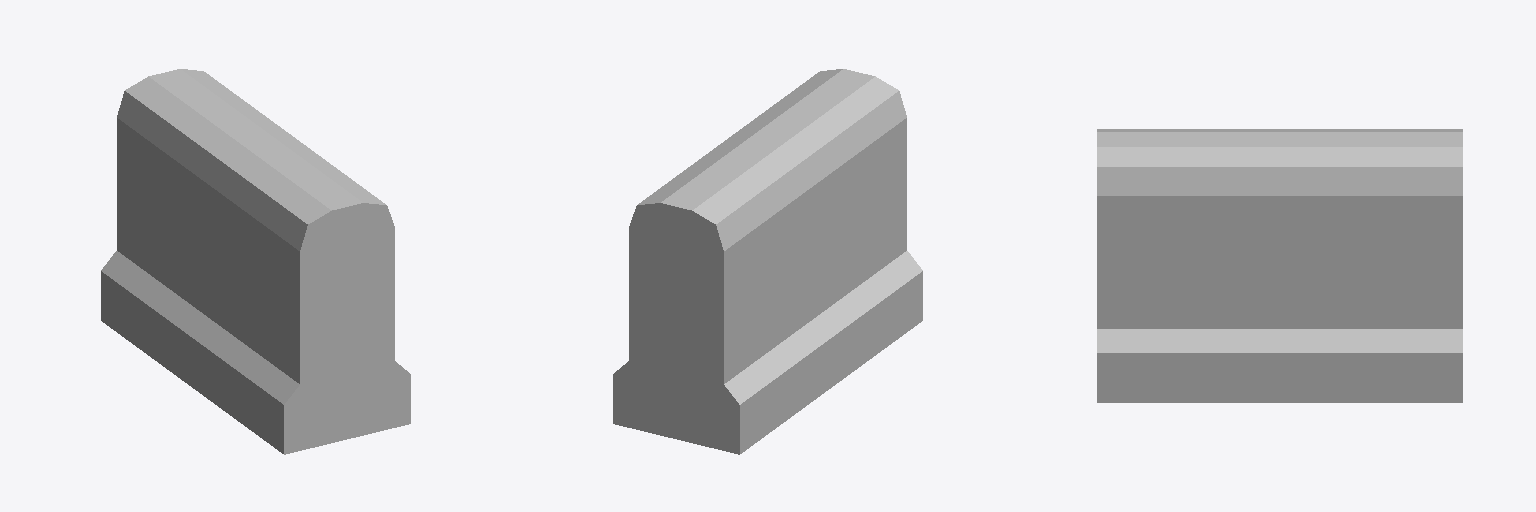
Rendered from hedgeLarge.obj.
3 renders of one model, left to right at view 1: azimuth 30°, elevation 25°; view 2: azimuth 150°, elevation 25°; view 3: azimuth 270°, elevation 25°, orthographic.
Visible parts, largest first — view 1: hedgeLarge; view 2: hedgeLarge; view 3: hedgeLarge.
Part boxes in pixels (x1,y1,x2,y2): hedgeLarge: (101, 69, 410, 454); hedgeLarge: (613, 69, 922, 454); hedgeLarge: (1097, 129, 1462, 402).
Bounding box in the file's own units: 0.4 × 0.7 × 1.